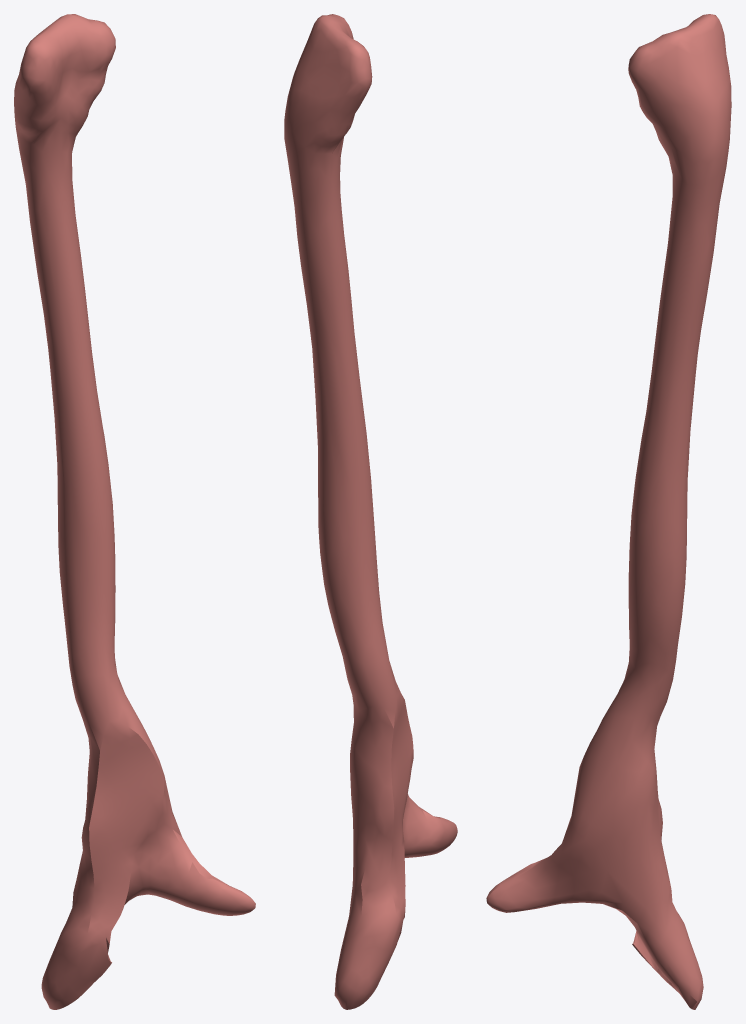
Rendered from fma46669_mm1239m.glb.
3 renders of one model, left to right at view 1: azimuth 90°, elevation 25°; view 2: azimuth 150°, elevation 25°; view 3: azimuth 270°, elevation 25°, orthographic.
Visible parts, largest first — view 1: FMA46669_MM1239M; view 2: FMA46669_MM1239M; view 3: FMA46669_MM1239M.
Part boxes in pixels (x1,y1,x2,y2): FMA46669_MM1239M: [14, 14, 255, 1009]; FMA46669_MM1239M: [284, 14, 457, 1009]; FMA46669_MM1239M: [486, 14, 731, 1009].
Bounding box in the file's own units: 0.00501 × 0.0527 × 0.0118.
